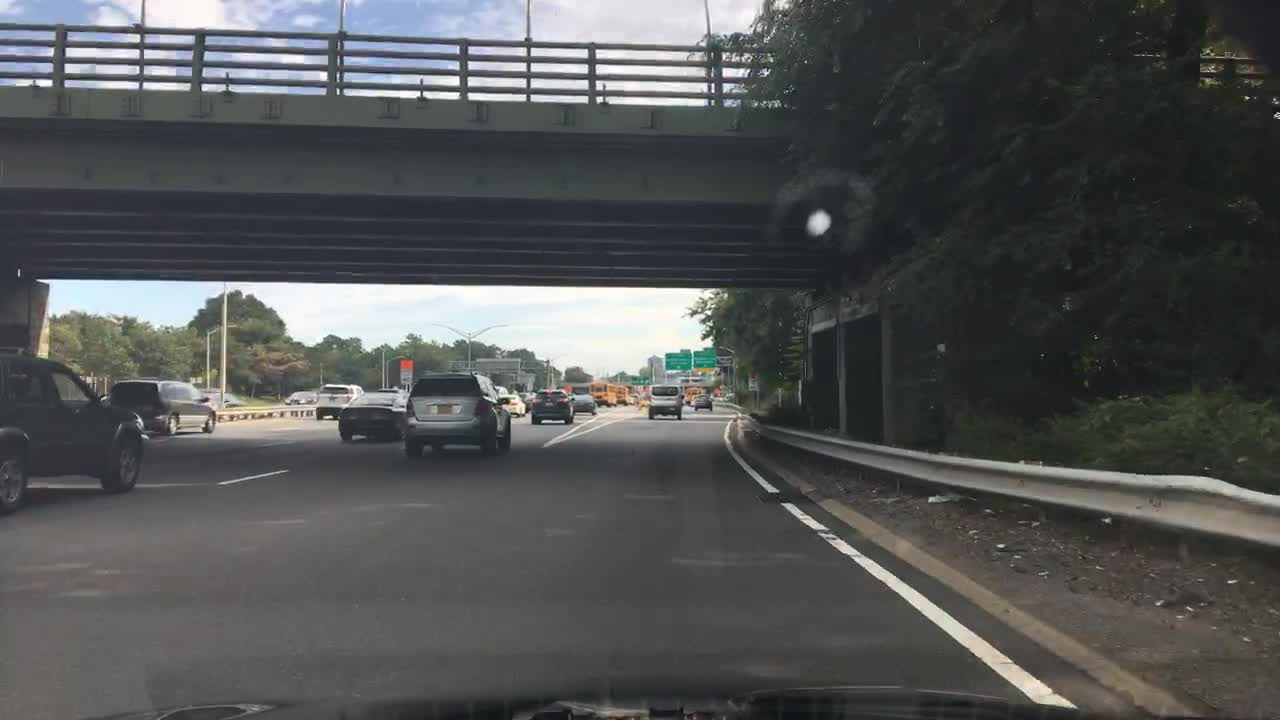car: (0, 347, 146, 511), (406, 372, 512, 459), (111, 378, 214, 436), (338, 390, 411, 439), (318, 381, 360, 424), (526, 390, 576, 425), (644, 384, 681, 424), (570, 387, 598, 412), (282, 387, 314, 408), (503, 385, 523, 410), (692, 390, 715, 410), (518, 389, 535, 404), (681, 384, 695, 399)
traffic sign: (664, 349, 690, 372), (695, 346, 713, 369), (629, 373, 653, 382)
truck: (590, 381, 610, 404), (610, 384, 632, 402)
